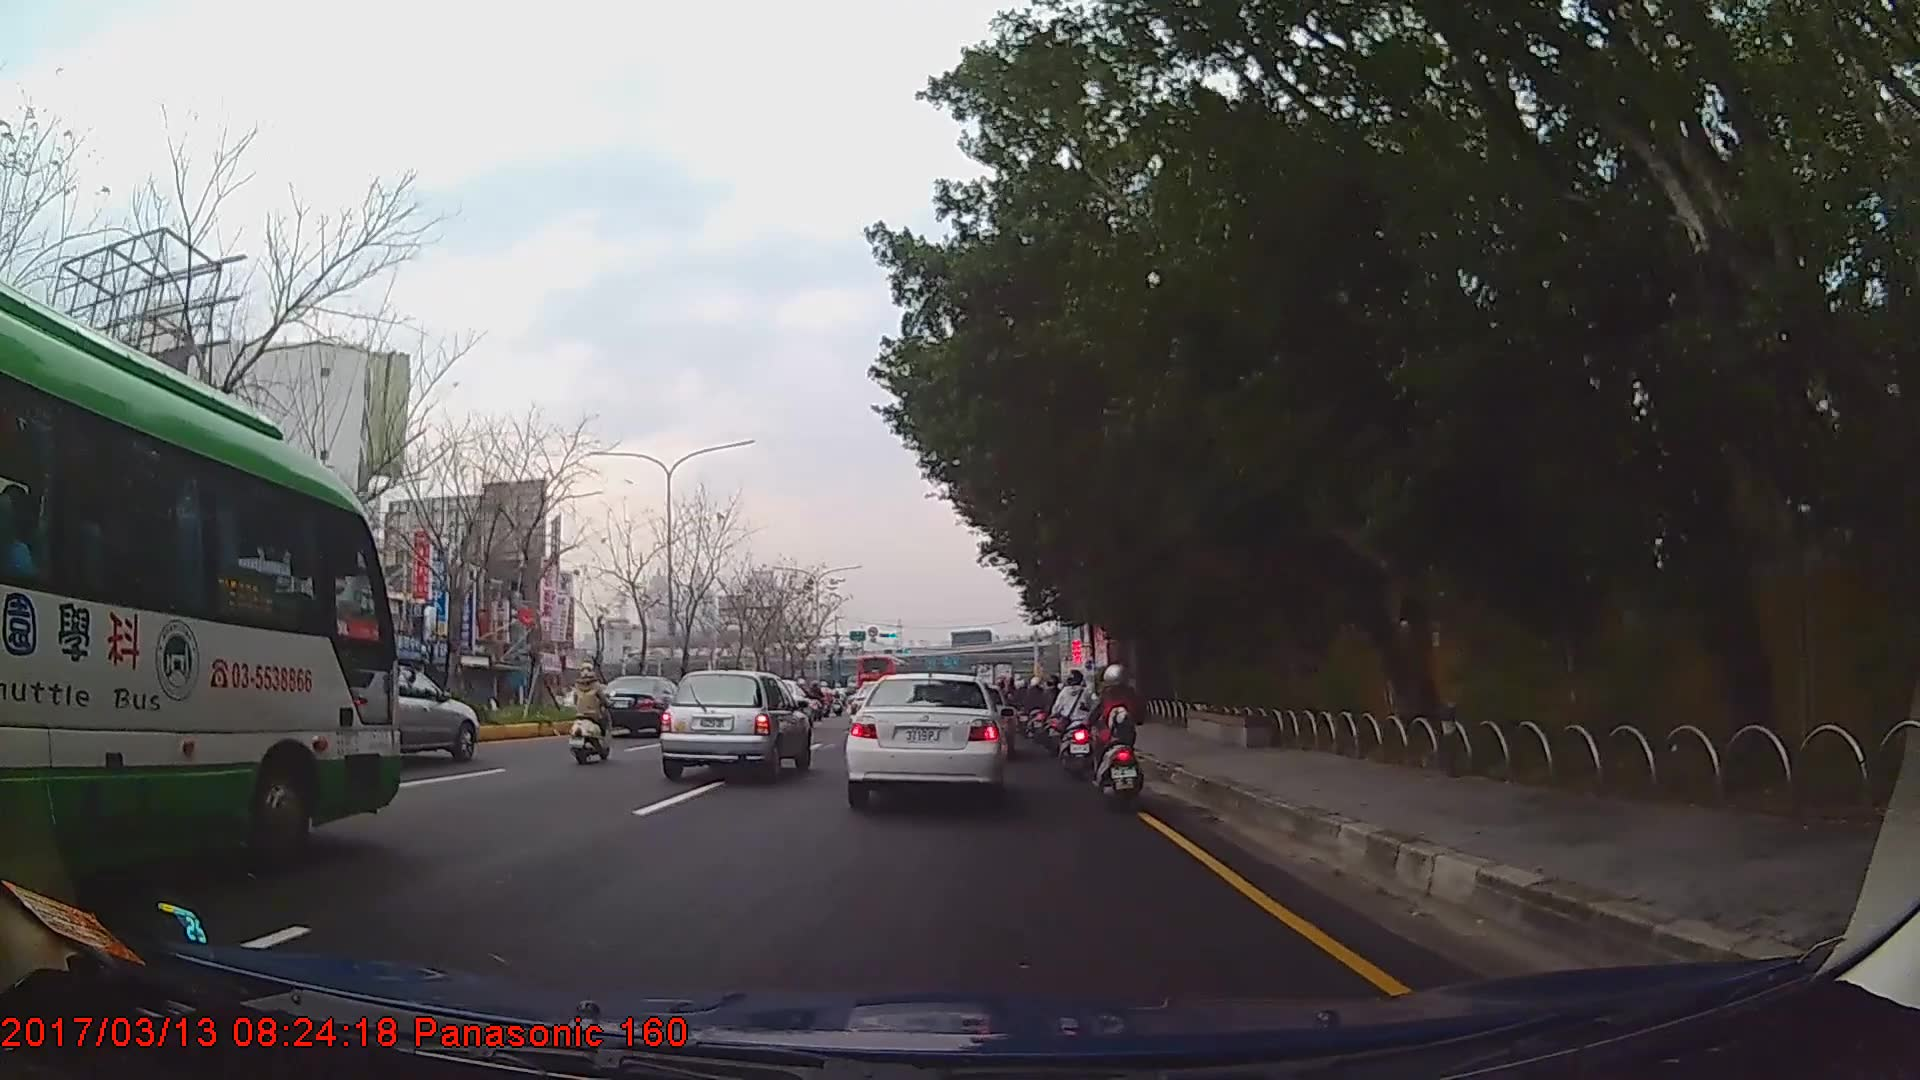rider: (1088, 656, 1150, 812), (1056, 671, 1100, 779), (571, 663, 614, 761), (1043, 670, 1067, 749)
vehicle: (0, 283, 404, 895), (840, 669, 1008, 808), (661, 666, 813, 781), (338, 662, 477, 761), (595, 673, 688, 736), (856, 649, 909, 698)
